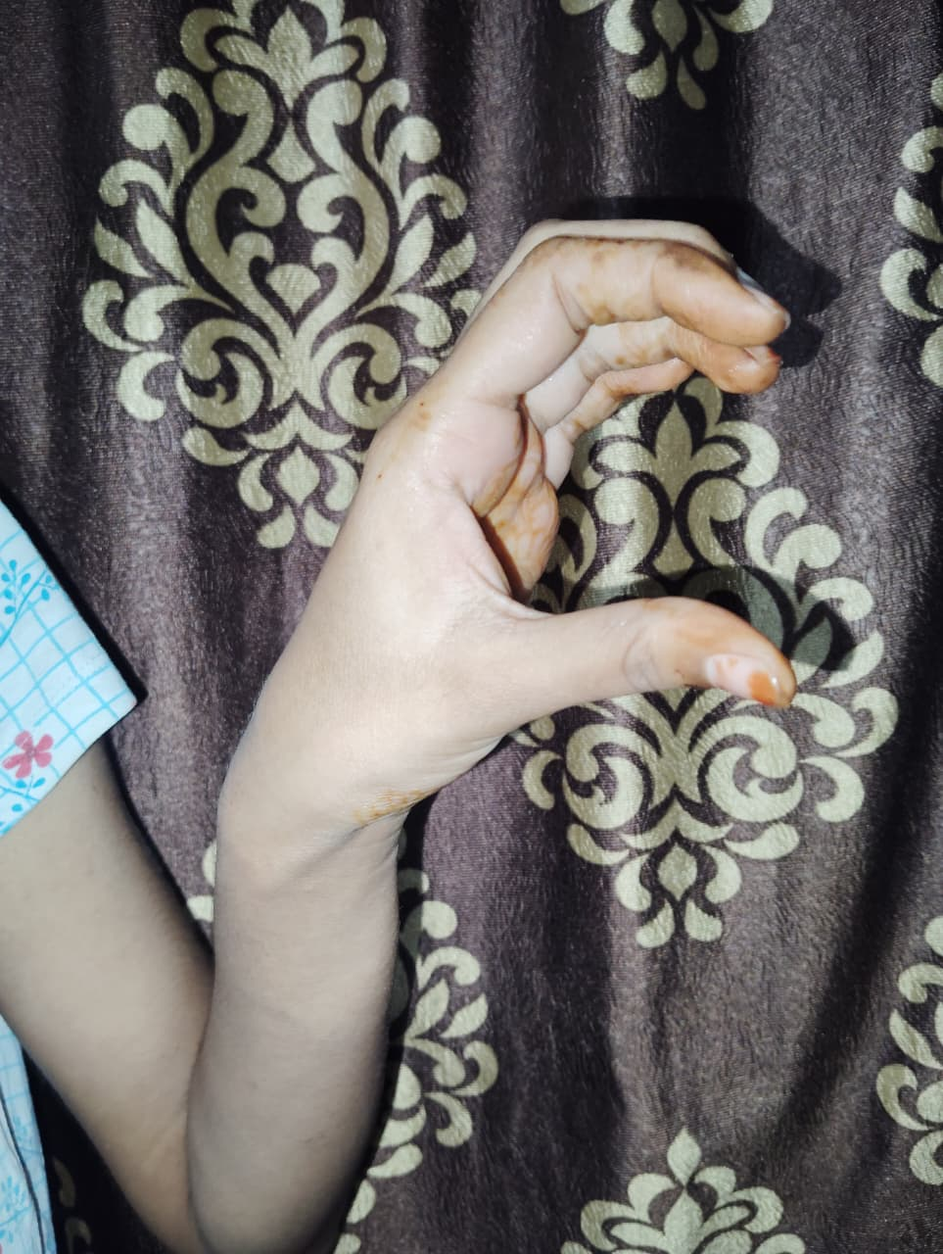C: (269, 219, 796, 787)
